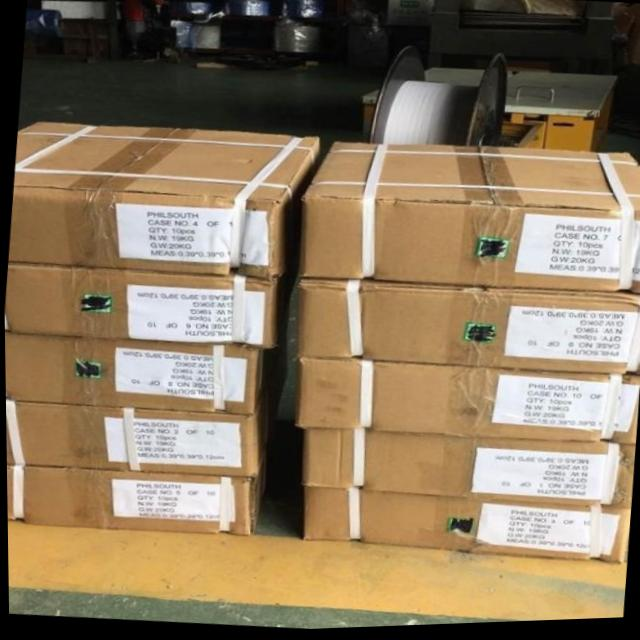box: (298, 144, 640, 299), (14, 119, 323, 281), (296, 280, 640, 381), (295, 360, 637, 448), (5, 378, 285, 478), (8, 258, 297, 353), (303, 429, 633, 509), (301, 489, 628, 567), (4, 329, 285, 417), (5, 453, 269, 536)
